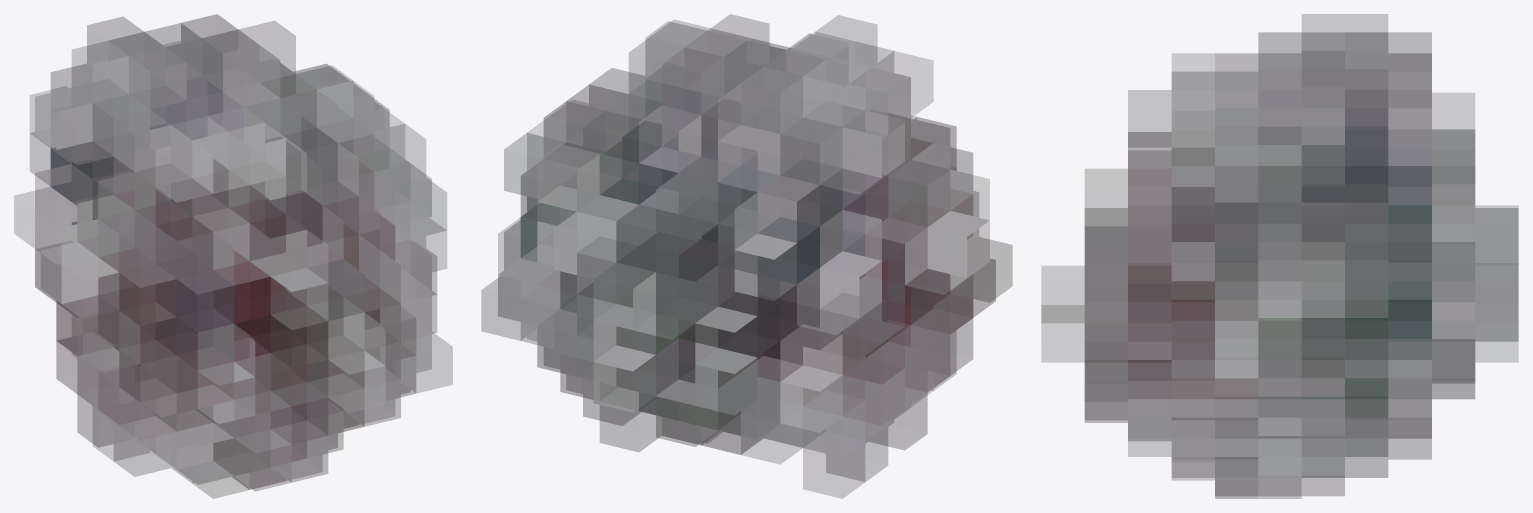
File: iter_10.obj
The picture shows the model from 3 angles, left to right: view 1: azimuth 30°, elevation 25°; view 2: azimuth 150°, elevation 25°; view 3: azimuth 270°, elevation 25°; orthographic projection. The views are drawn at different scales.
Visible parts, largest first — view 1: iter_10; view 2: iter_10; view 3: iter_10.
Boxes of the visible parts, x1,y1,x2,y2 form: iter_10: [14, 14, 452, 498]; iter_10: [481, 14, 1012, 498]; iter_10: [1041, 14, 1518, 498].
Bounding box in the file's own units: 1 × 1 × 1.1.
